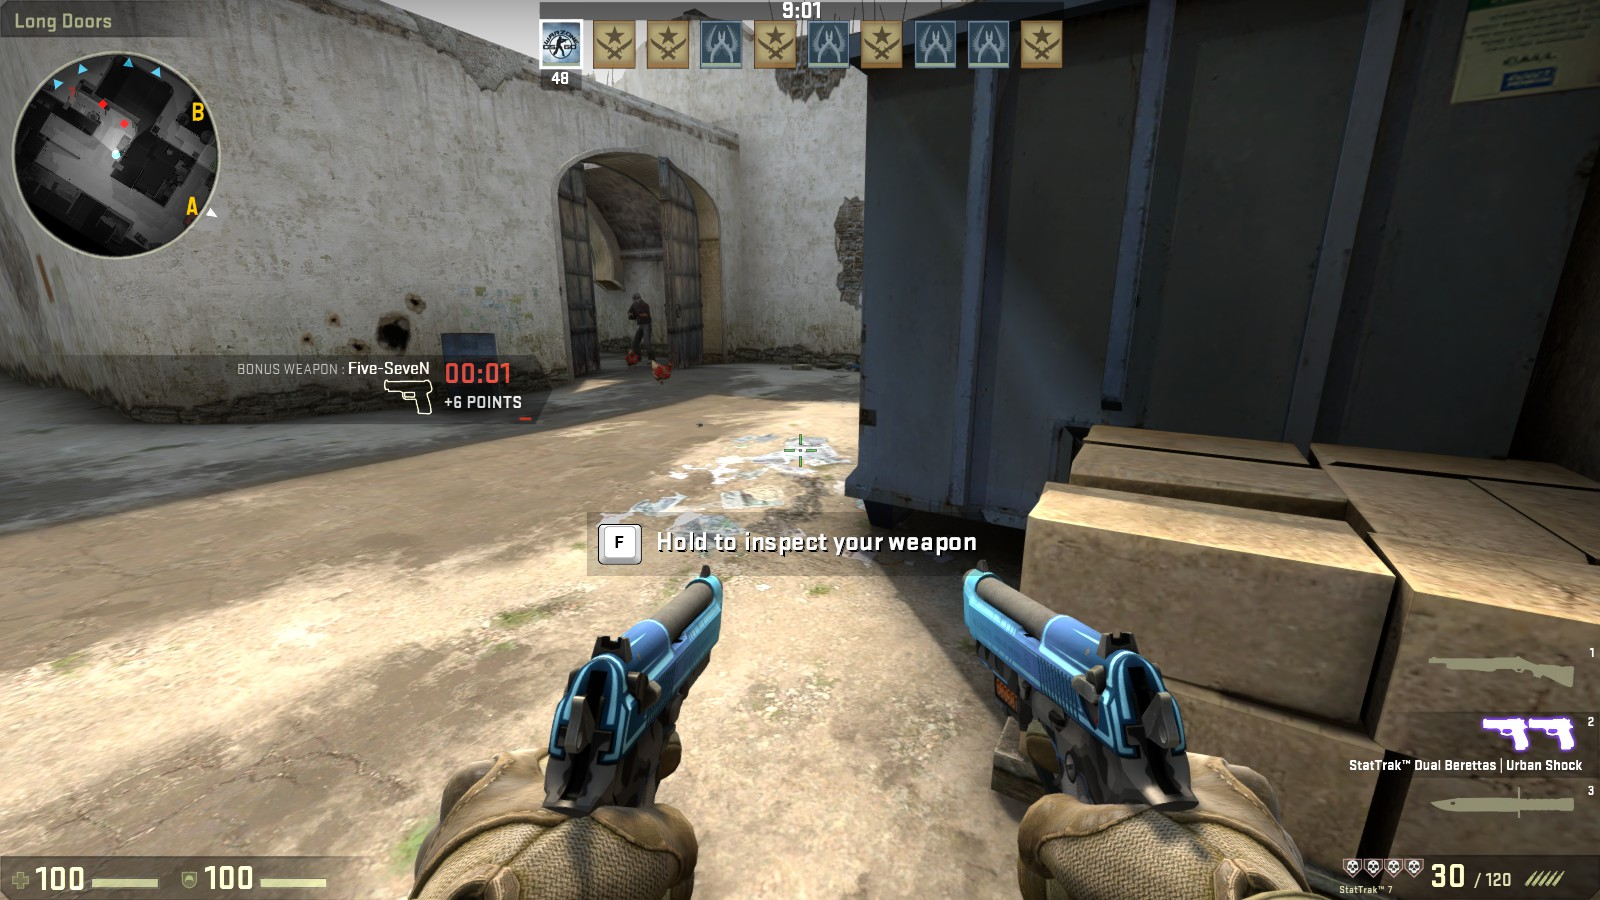t: (627, 291, 656, 366)
th: (631, 291, 644, 305)
